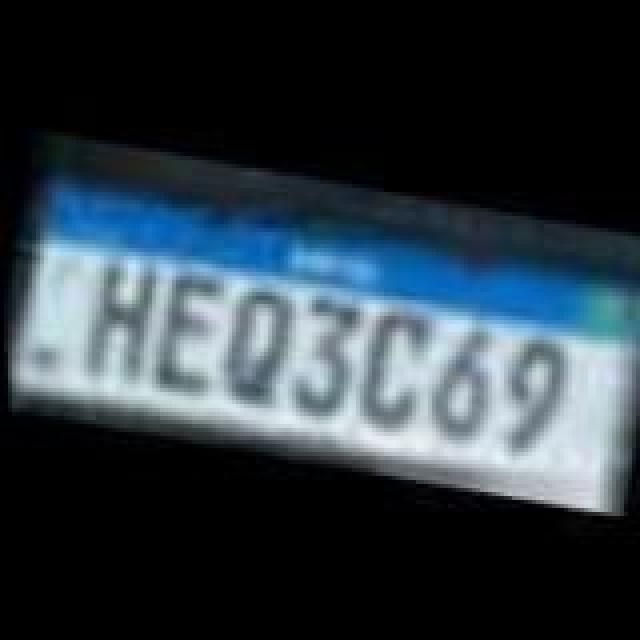3: (274, 286, 370, 418)
6: (418, 314, 506, 446)
9: (480, 324, 572, 460)
C: (346, 298, 434, 426)
E: (144, 266, 232, 398)
H: (76, 254, 164, 386)
Q: (208, 280, 296, 412)
